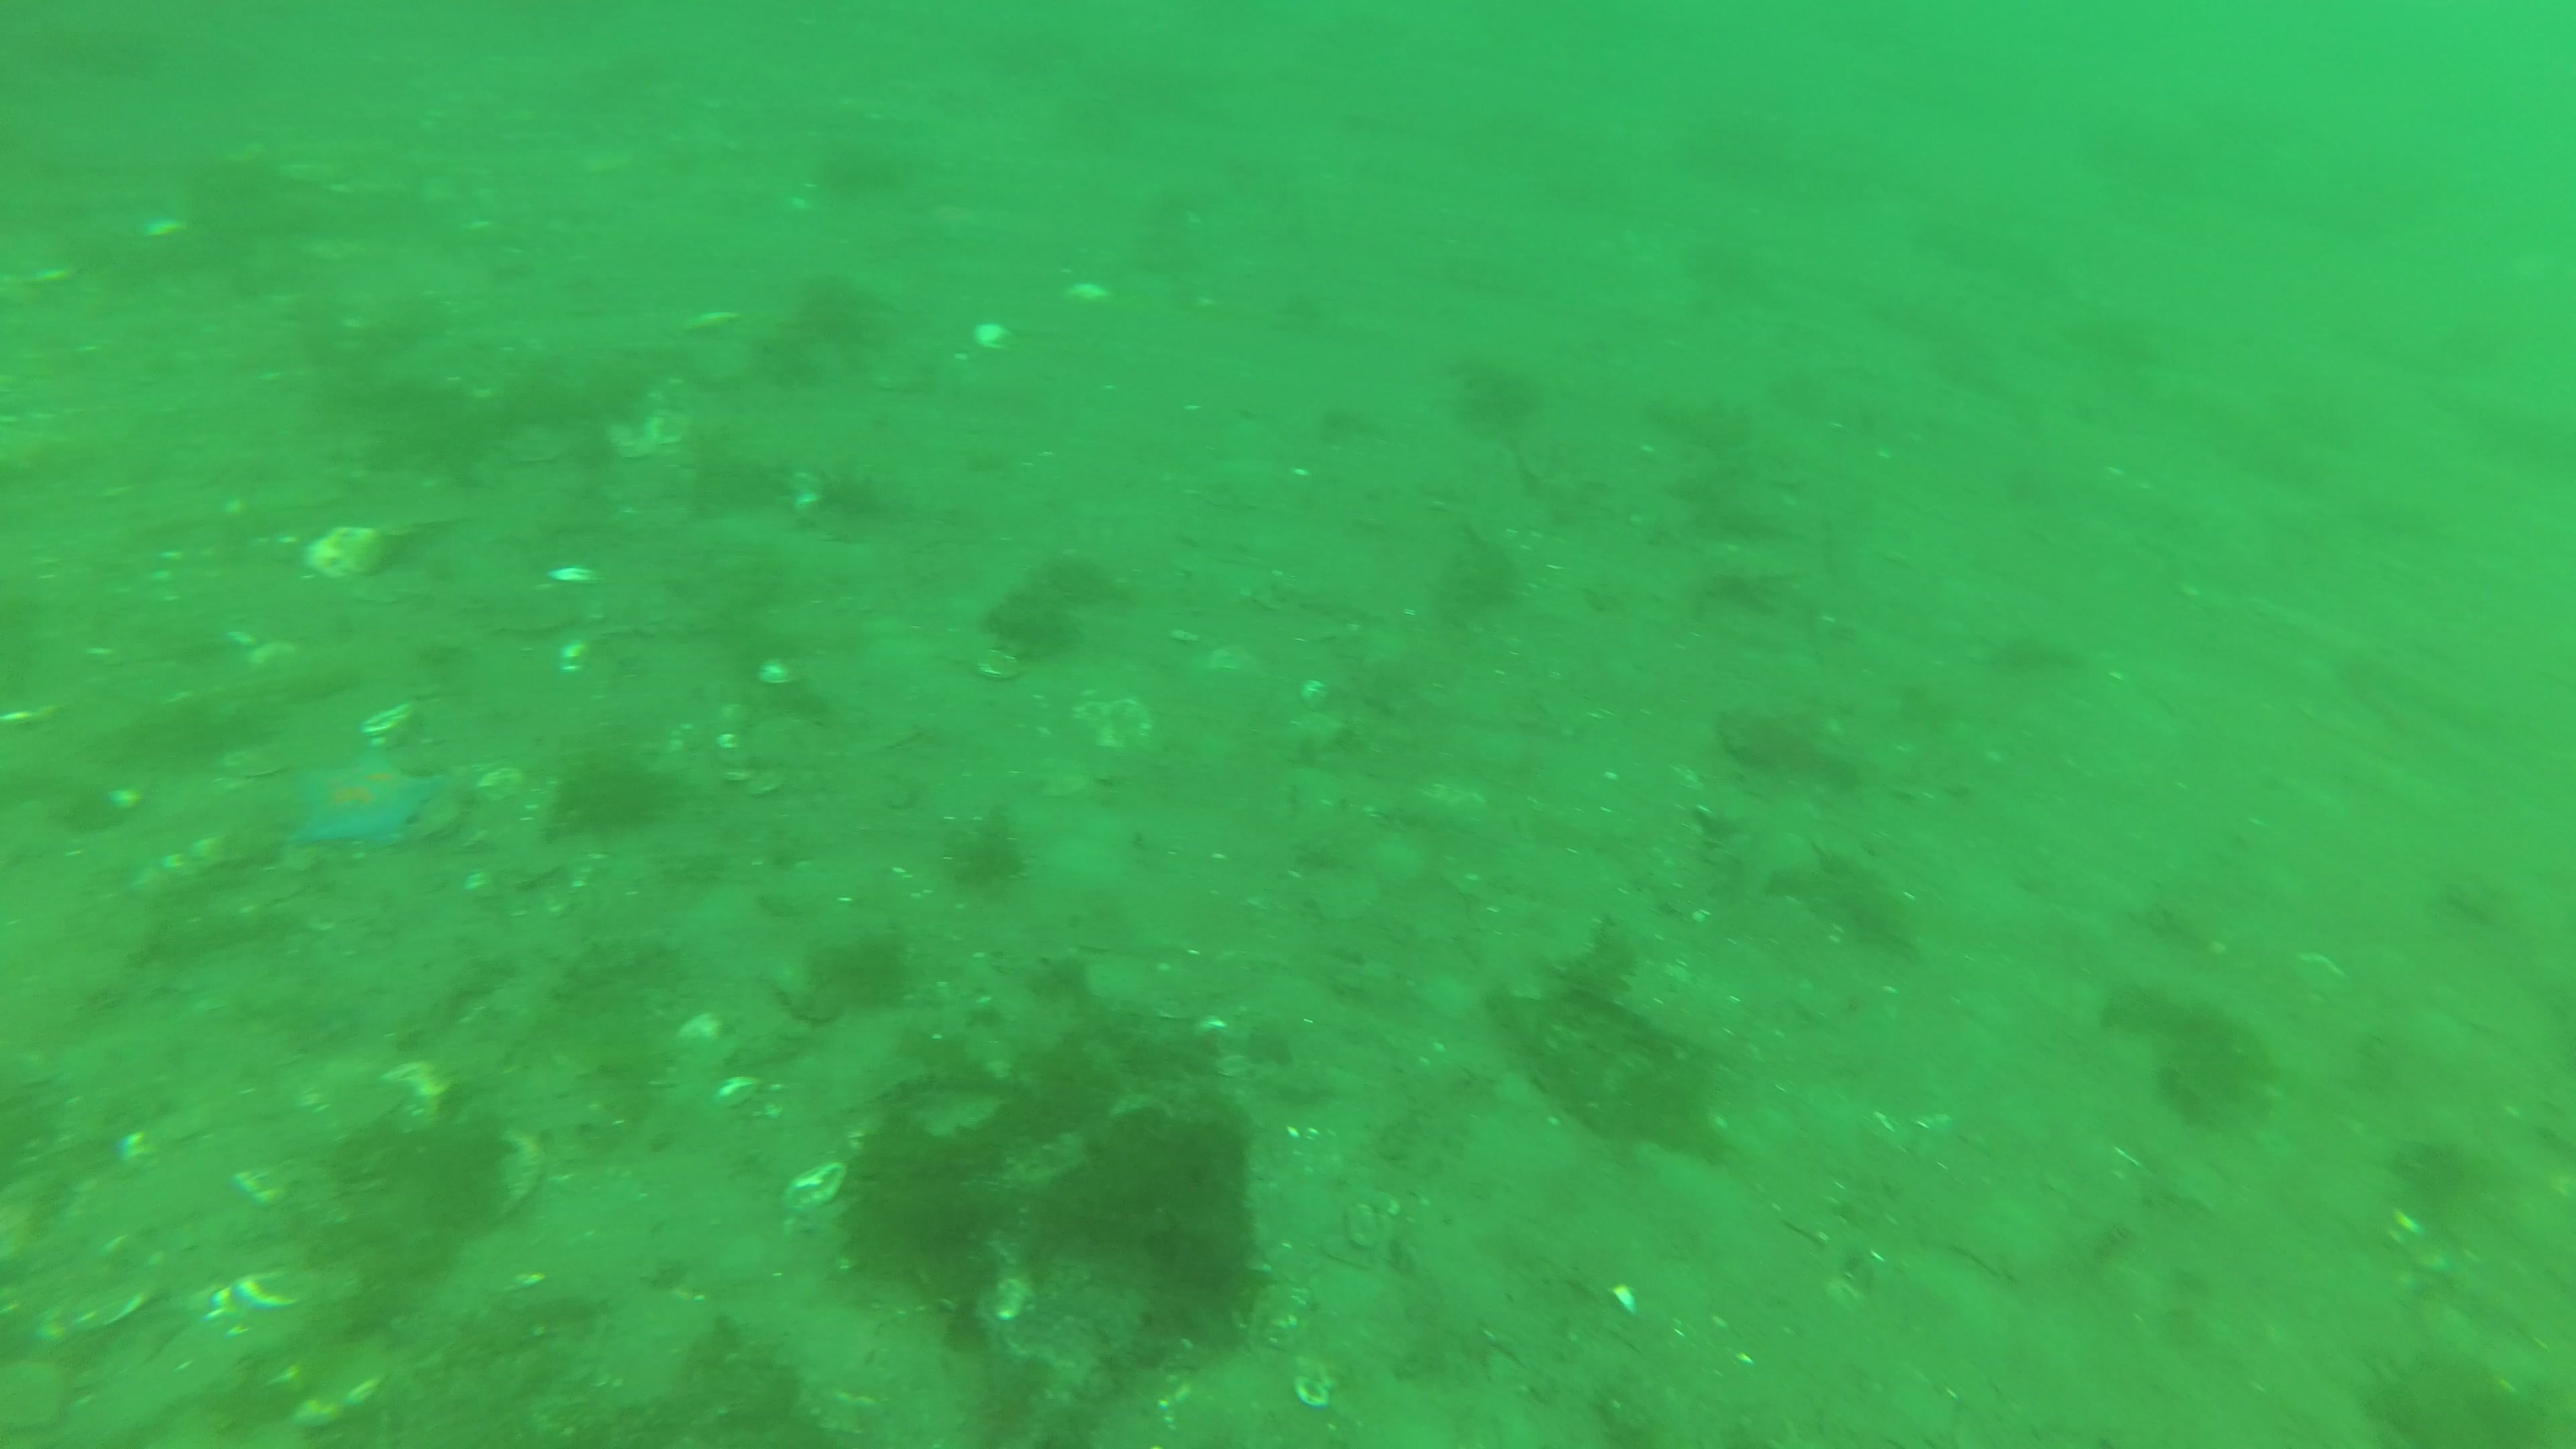starfish: (280, 736, 441, 853)
